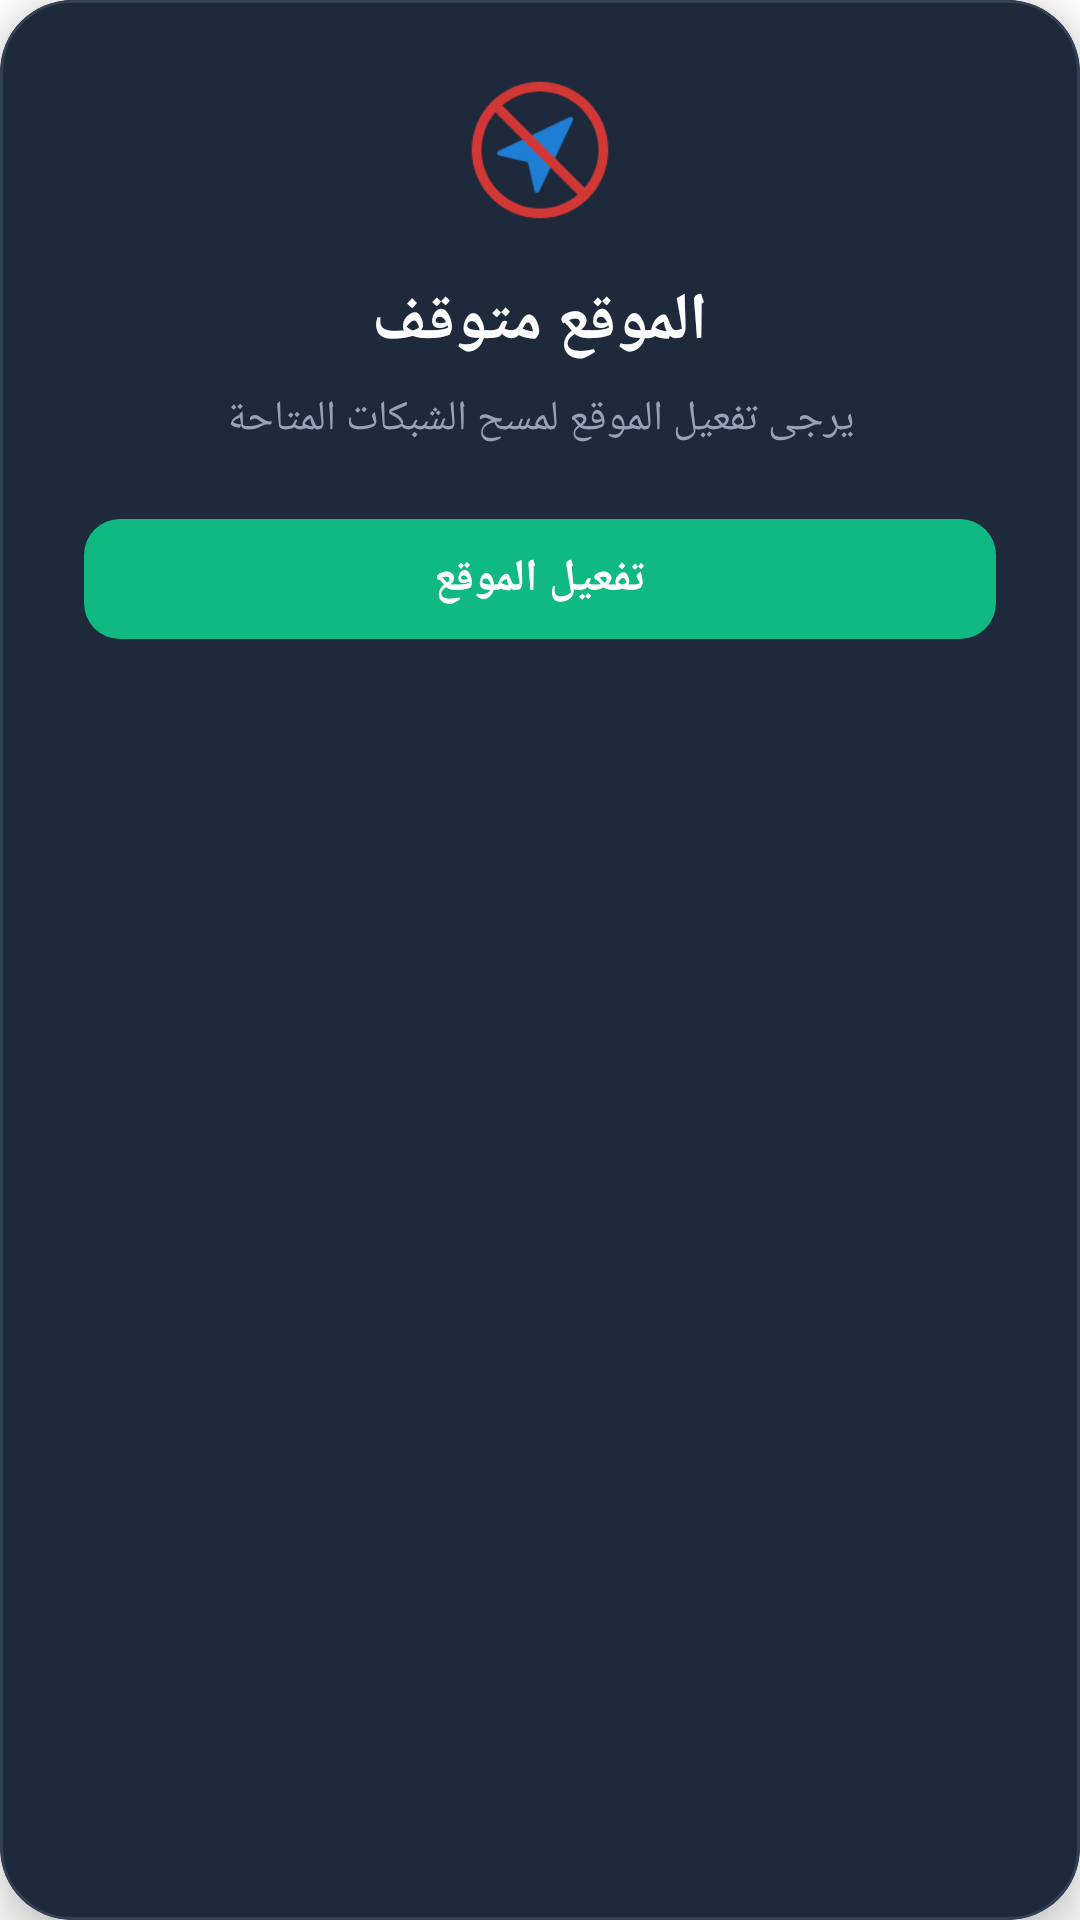

Icon bounding boxes for this 1080 × 1920 phone screenshot, format (x1, y1, x2, y2):
gps off: (471, 81, 609, 219)
